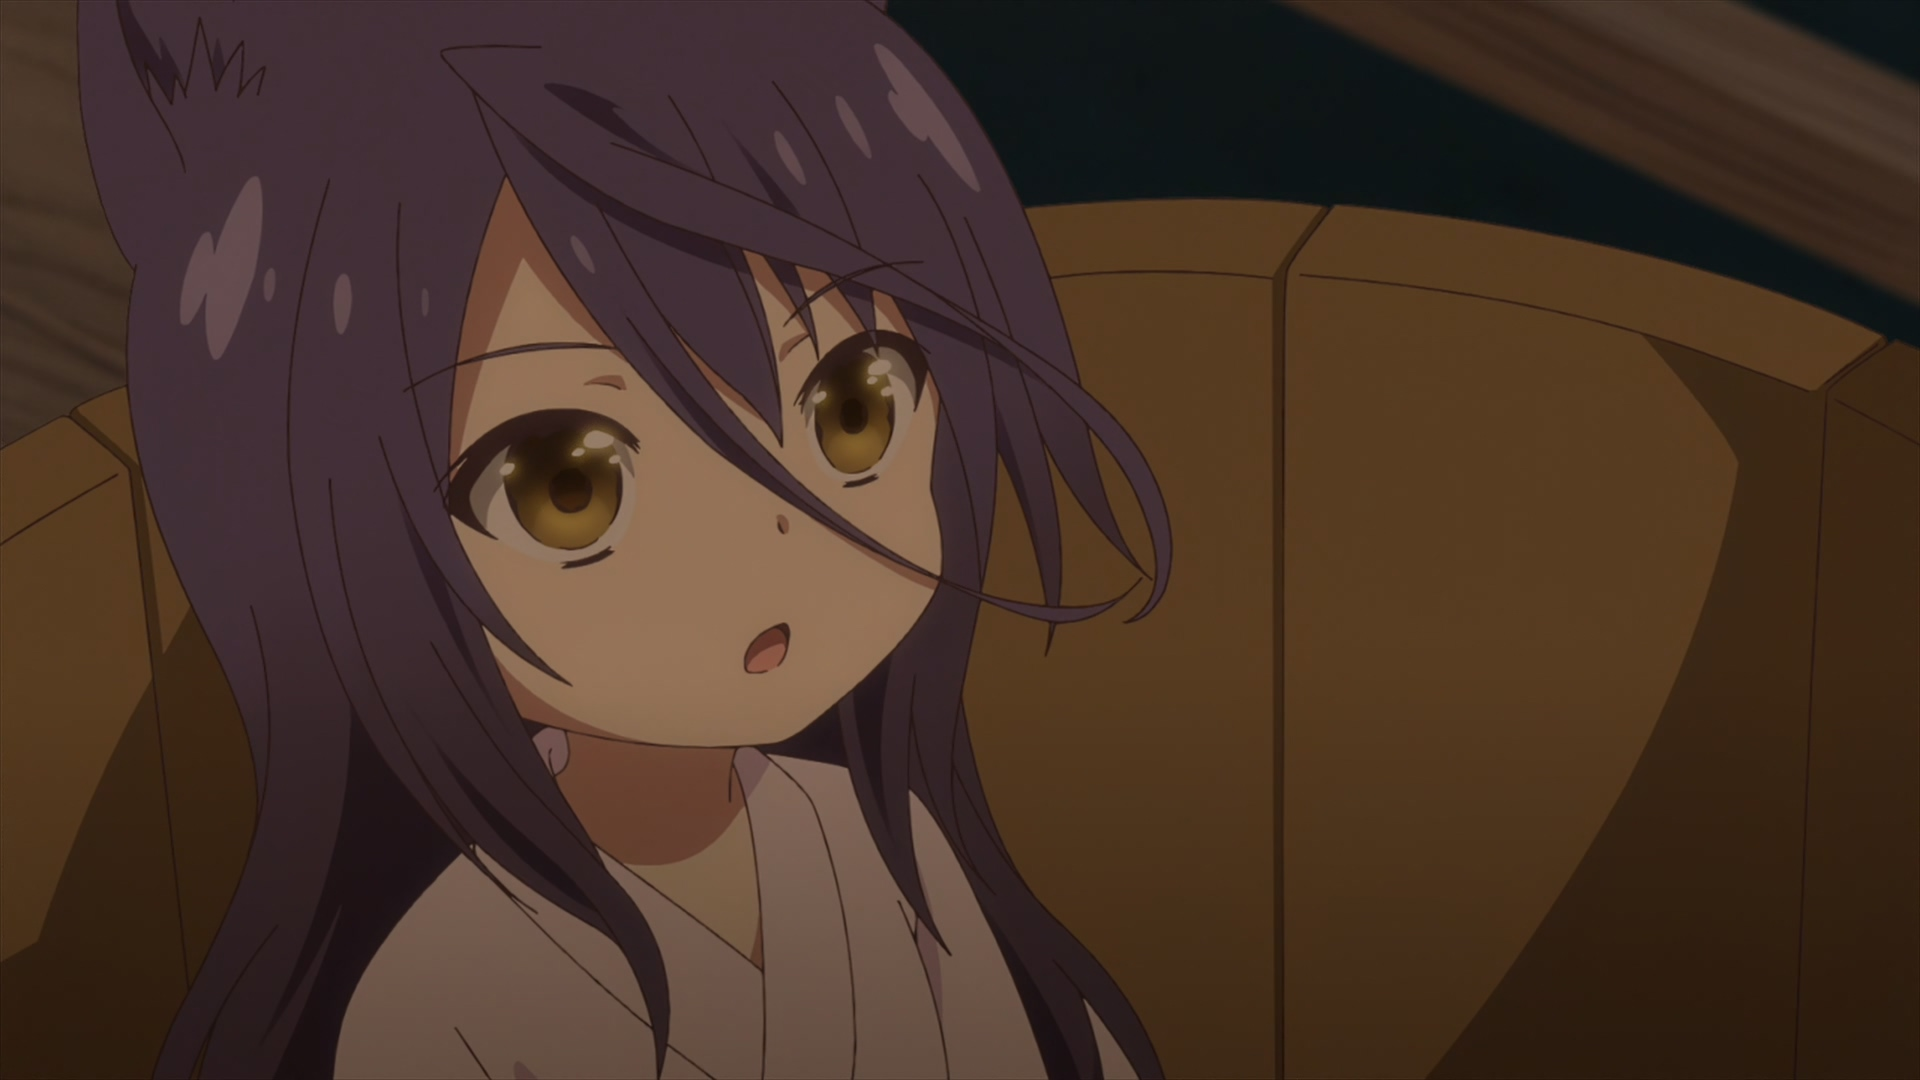皋: (76, 1, 1170, 1080)
